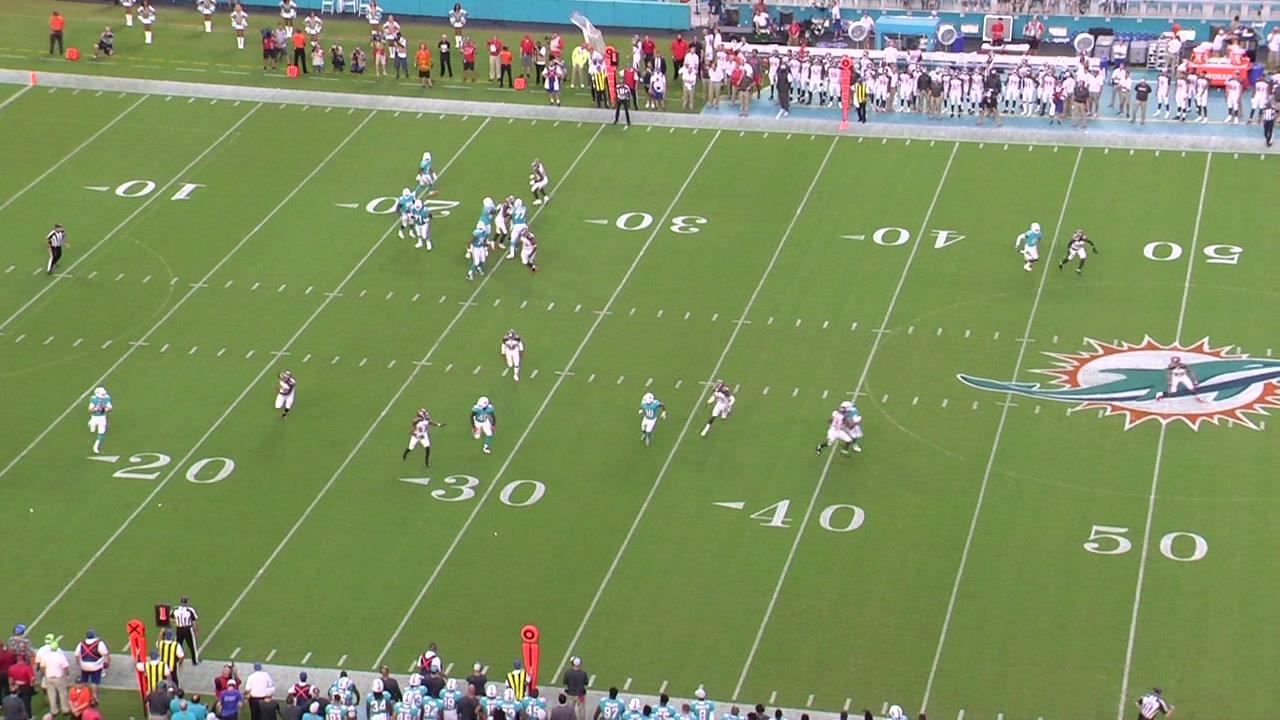five_hash: (410, 358, 434, 367), (996, 399, 1019, 408), (552, 370, 577, 378), (127, 340, 151, 348), (270, 350, 294, 358), (188, 281, 209, 290), (730, 318, 753, 326), (52, 272, 74, 280), (1015, 336, 1037, 344), (456, 300, 481, 307), (323, 292, 346, 299), (593, 309, 616, 316), (869, 328, 891, 335), (698, 380, 718, 387), (845, 391, 867, 397)
hash: (329, 353, 344, 367), (214, 345, 228, 360), (14, 331, 28, 346), (99, 337, 115, 350), (442, 361, 456, 375), (300, 351, 314, 365), (301, 283, 316, 296), (41, 334, 56, 347), (819, 318, 832, 332), (789, 386, 802, 400), (71, 335, 85, 348), (759, 383, 771, 398), (140, 273, 153, 286), (276, 281, 289, 294), (764, 314, 777, 327), (878, 393, 891, 406), (243, 348, 256, 361), (159, 342, 172, 355), (793, 316, 805, 330), (939, 396, 951, 410), (819, 388, 831, 402), (499, 365, 511, 379), (86, 269, 99, 281), (250, 280, 262, 293), (357, 288, 370, 300), (410, 291, 422, 304), (518, 298, 530, 311), (573, 303, 586, 315), (654, 308, 667, 320), (990, 329, 1002, 342), (1264, 346, 1276, 359), (909, 394, 921, 407), (731, 383, 743, 396), (385, 358, 398, 370), (356, 356, 369, 368), (187, 344, 199, 357), (472, 363, 483, 377), (848, 320, 860, 332), (933, 326, 945, 338), (1049, 334, 1061, 346), (114, 272, 127, 283), (627, 306, 638, 319), (674, 378, 685, 391), (642, 376, 655, 387), (615, 373, 626, 386), (585, 372, 598, 383), (4, 264, 15, 276), (168, 275, 180, 286), (224, 278, 236, 289), (384, 290, 396, 301), (436, 294, 448, 305), (491, 297, 503, 308), (545, 300, 556, 312), (681, 309, 693, 320), (904, 324, 916, 335), (962, 327, 973, 339), (529, 368, 540, 380), (31, 267, 44, 277), (970, 399, 980, 412), (709, 312, 720, 323), (1064, 406, 1073, 419), (1096, 408, 1106, 419), (1033, 403, 1043, 414), (1259, 420, 1267, 431)
marker: (126, 619, 155, 714), (519, 625, 539, 701), (602, 46, 620, 109), (837, 57, 853, 126)
number: (1081, 522, 1211, 566), (748, 494, 867, 538), (112, 446, 237, 486), (429, 470, 547, 509), (1141, 239, 1245, 268), (614, 209, 708, 237), (113, 177, 208, 204), (868, 225, 967, 250)
player: (29, 71, 38, 87)
